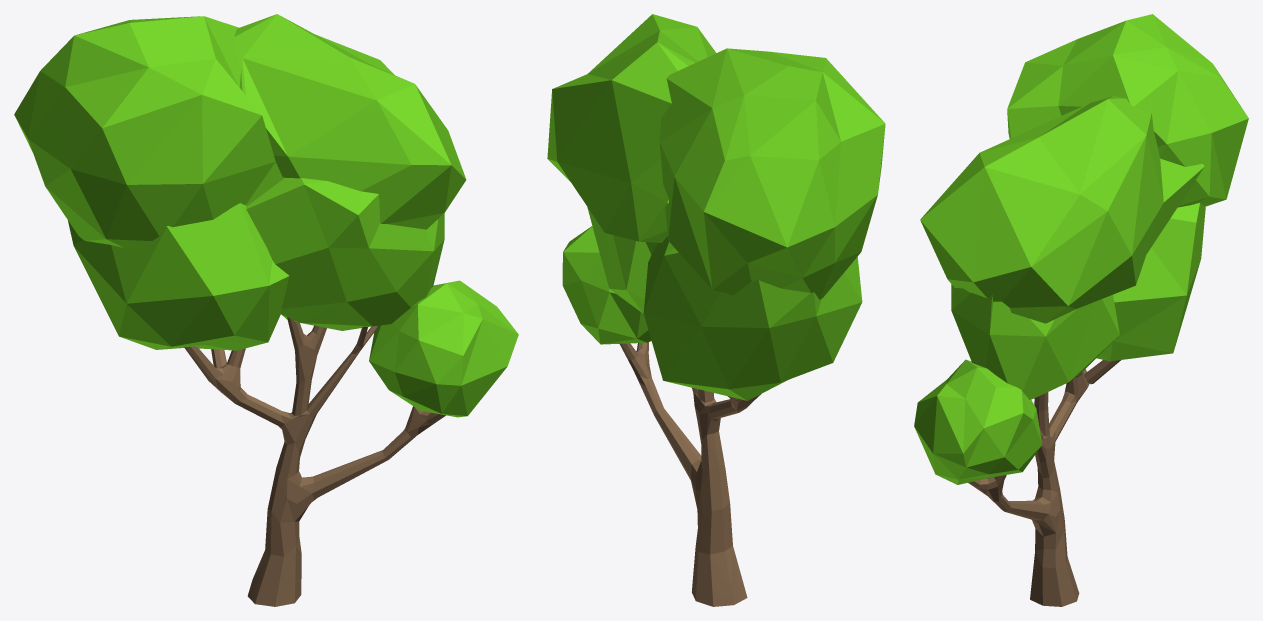
Rendered from Tree_06.fbx.
3 renders of one model, left to right at view 1: azimuth 30°, elevation 25°; view 2: azimuth 150°, elevation 25°; view 3: azimuth 270°, elevation 25°, orthographic. The views are drawn at different scales.
Visible parts, largest first — view 1: Tree_06; view 2: Tree_06; view 3: Tree_06.
Boxes of the visible parts, left/top/right/bottom form: Tree_06: left=14, top=14, right=518, bottom=606; Tree_06: left=547, top=14, right=885, bottom=606; Tree_06: left=914, top=14, right=1248, bottom=606.
Bounding box in the file's own units: 315 × 458 × 263.
